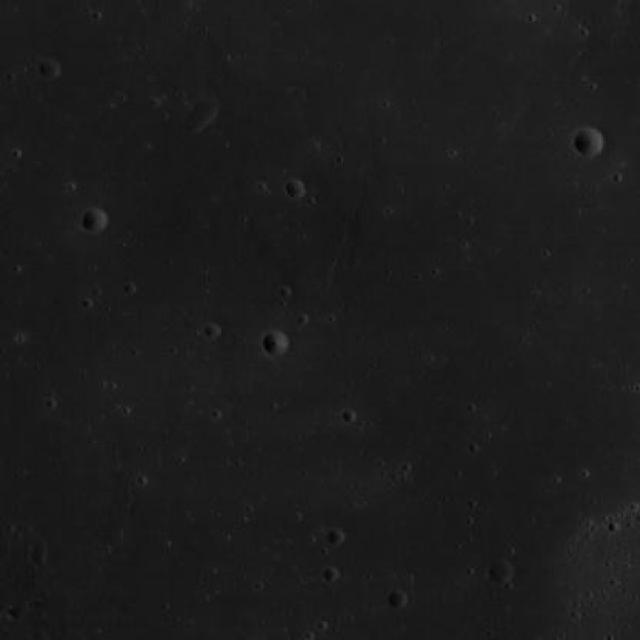crater: (186, 98, 220, 132), (574, 129, 603, 157), (264, 330, 290, 356), (84, 210, 110, 235), (488, 560, 512, 585), (41, 59, 61, 79), (390, 590, 410, 608), (288, 180, 307, 198), (330, 530, 347, 546), (326, 568, 342, 584)
